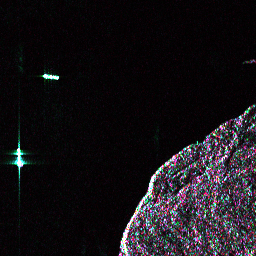ship: (14, 146, 25, 169), (40, 71, 61, 82)
